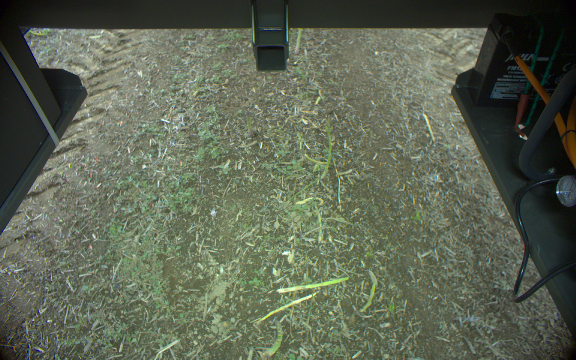aspa: (276, 275, 352, 297), (316, 122, 336, 181), (259, 318, 287, 359), (361, 268, 378, 314), (293, 28, 304, 55)
